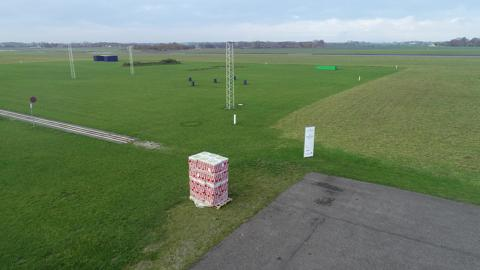RockwoolPallet: (187, 151, 230, 207)
